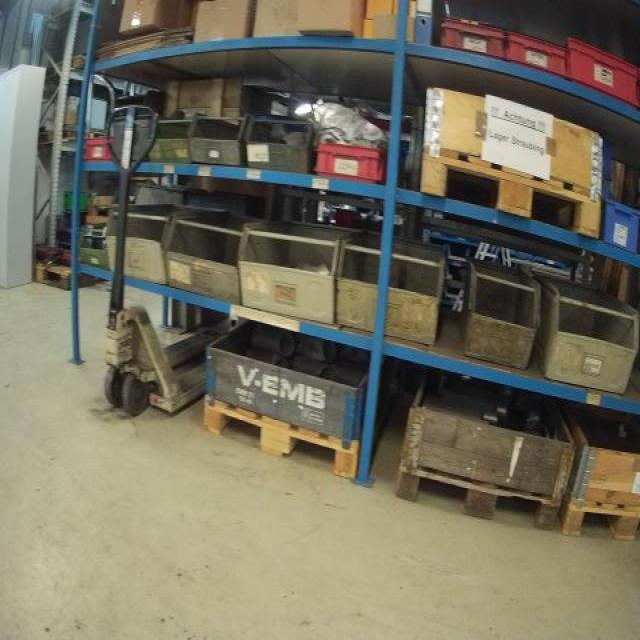pallet: (417, 144, 604, 240), (199, 394, 362, 481), (392, 459, 559, 535), (559, 491, 640, 543), (32, 258, 93, 290)
pallet_truck: (87, 101, 235, 426)
small_load_carrier: (566, 30, 640, 114), (438, 11, 506, 68), (503, 22, 566, 82), (310, 143, 386, 187), (599, 189, 640, 255), (82, 133, 121, 163)
